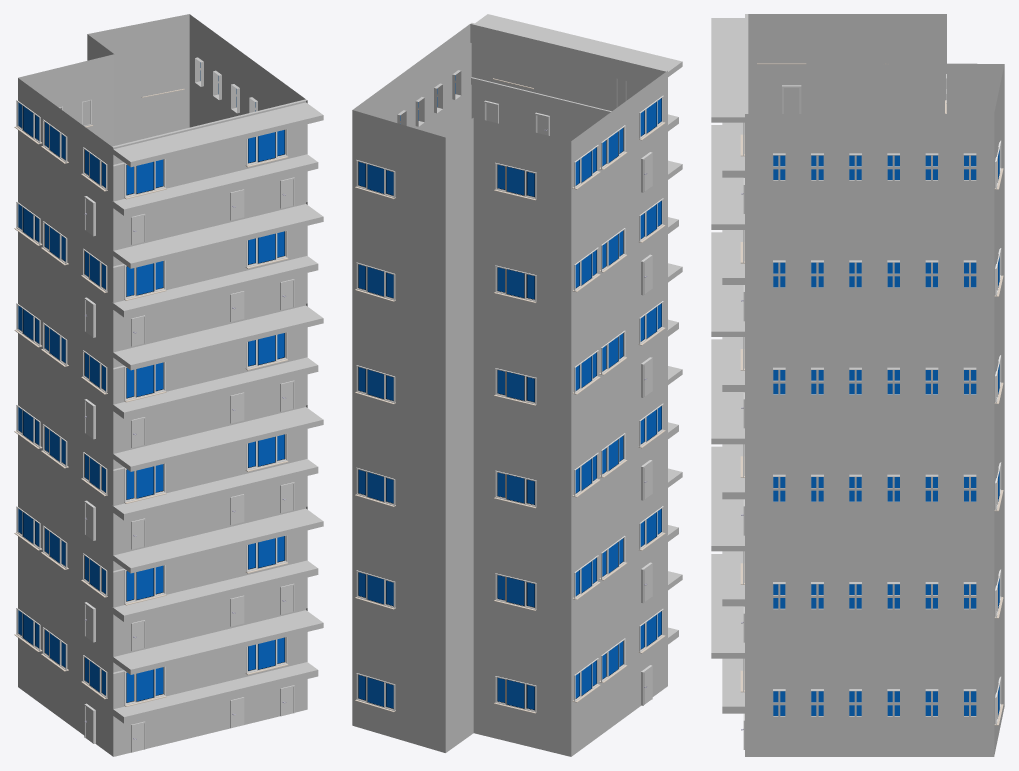
Rendered from solene immeuble02____.fbx.
The picture shows the model from 3 angles, left to right: view 1: azimuth 30°, elevation 25°; view 2: azimuth 150°, elevation 25°; view 3: azimuth 270°, elevation 25°; orthographic projection. The views are drawn at different scales.
Visible parts, largest first — view 1: Plane; view 2: Plane; view 3: Plane.
Part boxes in pixels (bbox=[...]): Plane: bbox=[14, 14, 323, 756]; Plane: bbox=[352, 14, 682, 756]; Plane: bbox=[711, 14, 1004, 756].
Size of the model in its own units: 209 by 600 by 248.
